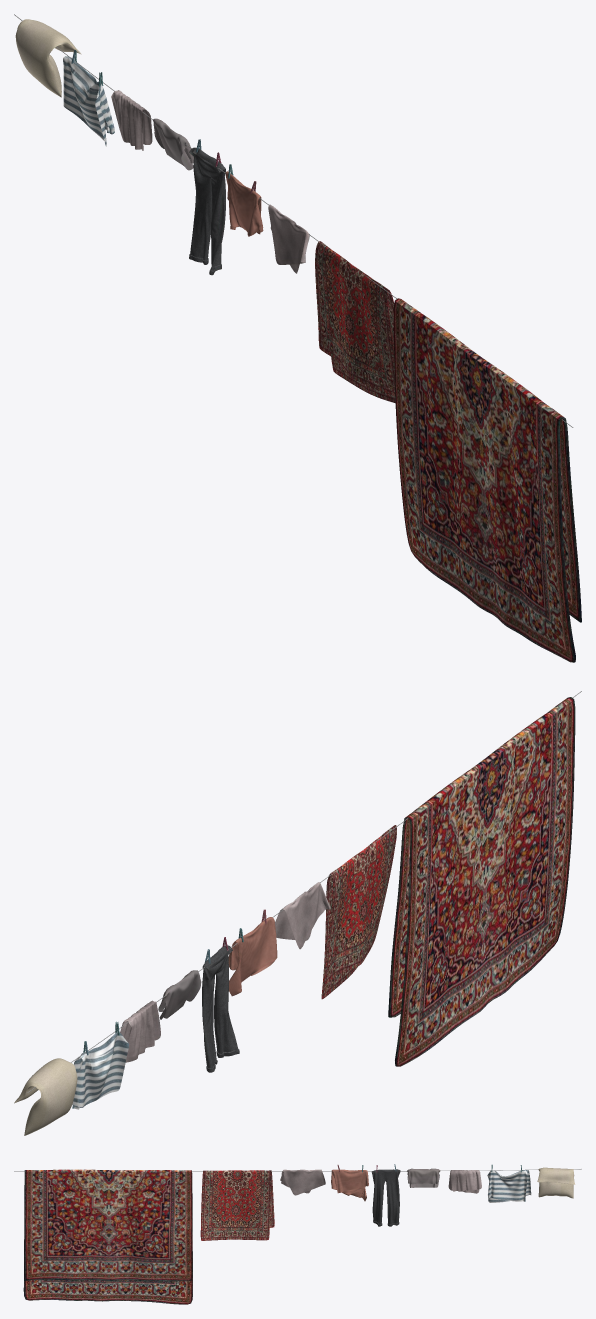
The model's file is clothes_line.glb.
3 views of the same model, one above another, from view 1: azimuth 30°, elevation 25°; view 2: azimuth 150°, elevation 25°; view 3: azimuth 270°, elevation 25° (orthographic). The views are drawn at different scales.
Parts seen in each view (by area): view 1: Clothes_ModelMain_2; view 2: Clothes_ModelMain_2; view 3: Clothes_ModelMain_2.
Boxes of the visible parts, left/top/right/bottom form: Clothes_ModelMain_2: left=15, top=19, right=581, bottom=662; Clothes_ModelMain_2: left=14, top=697, right=575, bottom=1135; Clothes_ModelMain_2: left=23, top=1167, right=575, bottom=1304.
Size of the model in its own units: 0.2822 by 1.79 by 6.7.
Materials: 4 (2 with a texture image).
